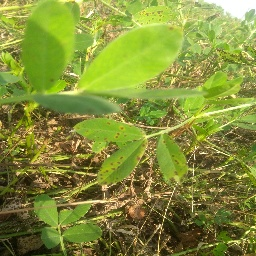GroundNut_Leaf: (77, 21, 189, 91), (20, 1, 76, 92), (76, 116, 147, 187), (157, 135, 189, 187), (62, 222, 103, 244), (31, 193, 58, 225), (36, 227, 61, 250)
